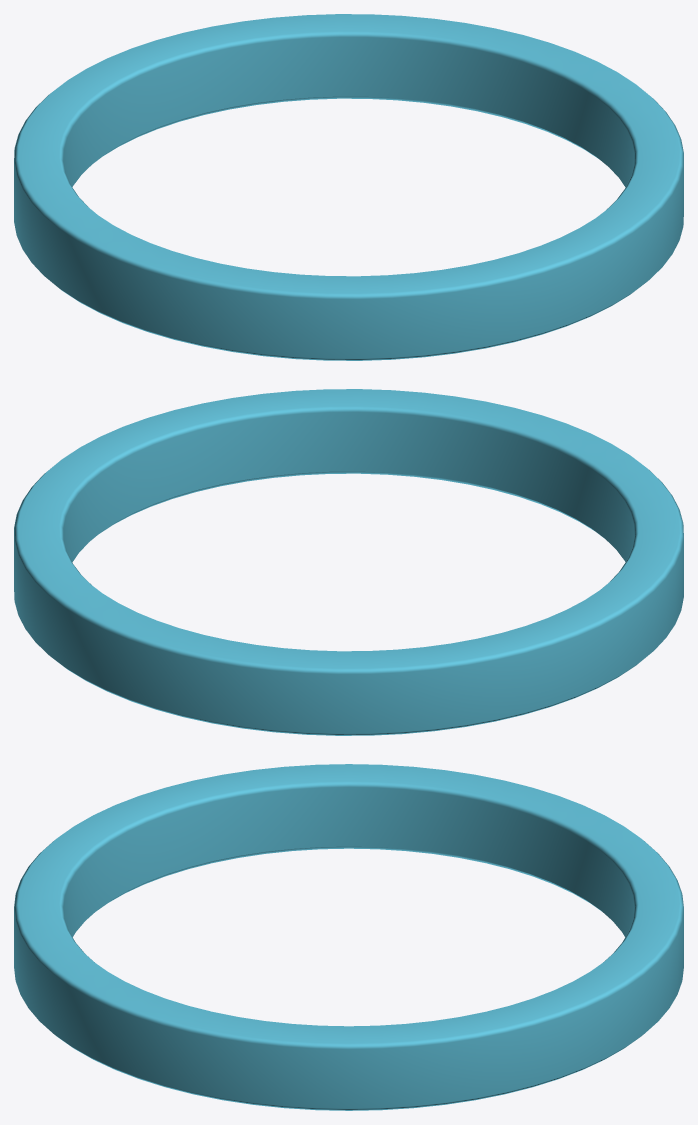
3 views of the same model, one above another, from view 1: azimuth 30°, elevation 25°; view 2: azimuth 150°, elevation 25°; view 3: azimuth 270°, elevation 25° (orthographic).
Visible parts, largest first — view 1: seal_body; view 2: seal_body; view 3: seal_body.
Boxes of the visible parts, x1,y1,x2,y2 form: seal_body: (14,14,683,360); seal_body: (14,389,683,735); seal_body: (14,764,683,1110).
Size of the model in its own units: 0.0857 by 0.00952 by 0.0857.
